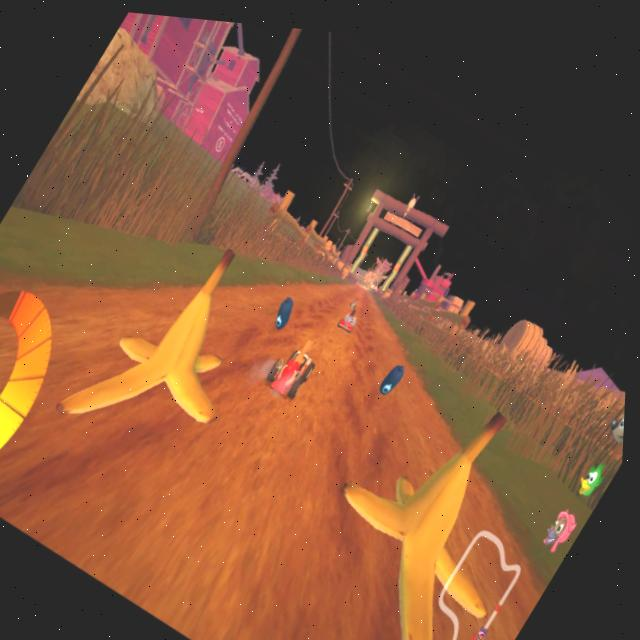enemy_kart: (333, 290, 372, 336)
nitro: (378, 339, 418, 393), (273, 283, 305, 324)
obstacle: (49, 204, 302, 506), (318, 346, 568, 631)
player_kart: (260, 322, 336, 409)
